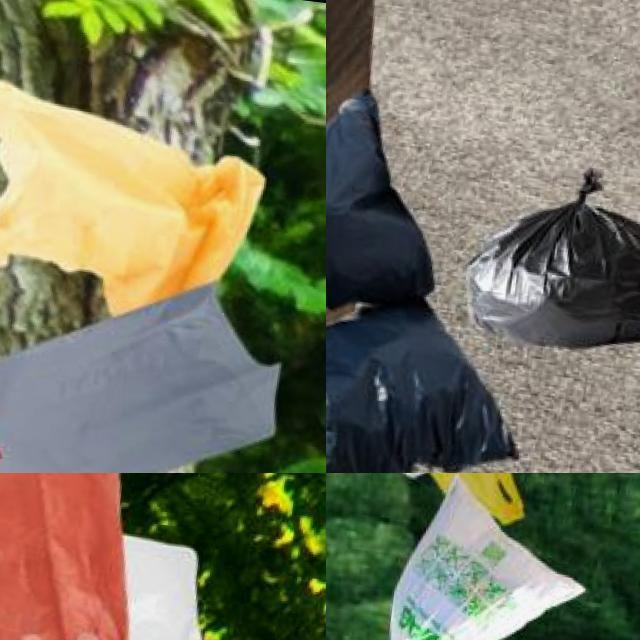waste: (0, 47, 273, 327), (0, 252, 296, 473), (326, 72, 476, 353), (326, 291, 533, 473), (384, 478, 590, 640), (464, 173, 640, 358), (0, 473, 180, 640), (0, 503, 218, 640), (326, 473, 640, 535), (326, 473, 640, 519)
